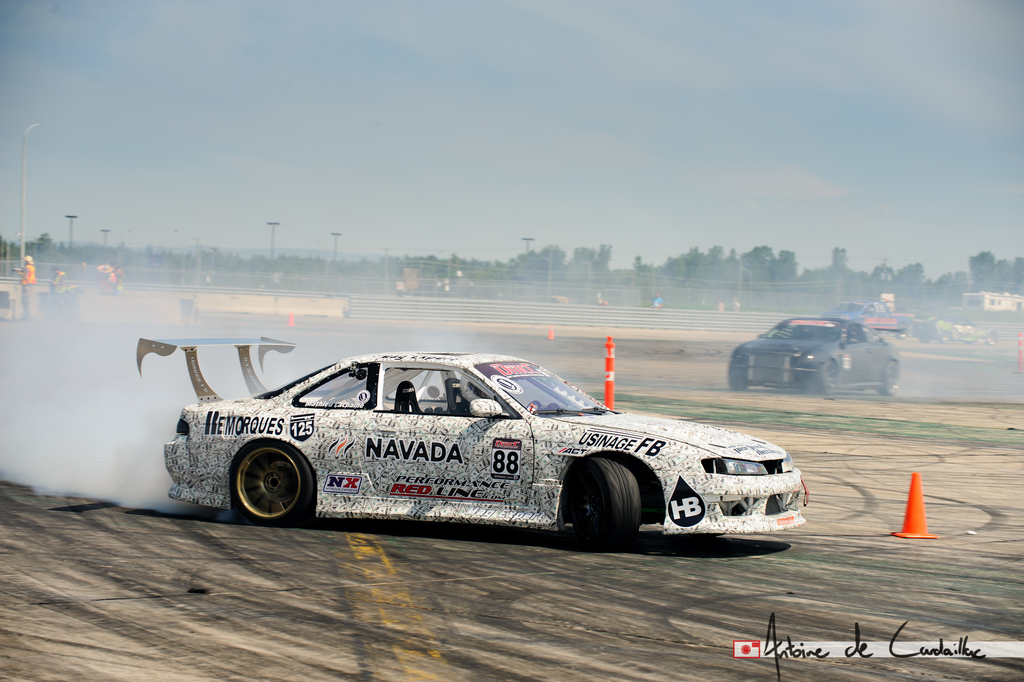car: (110, 303, 815, 558), (709, 296, 912, 411), (829, 293, 918, 347)
